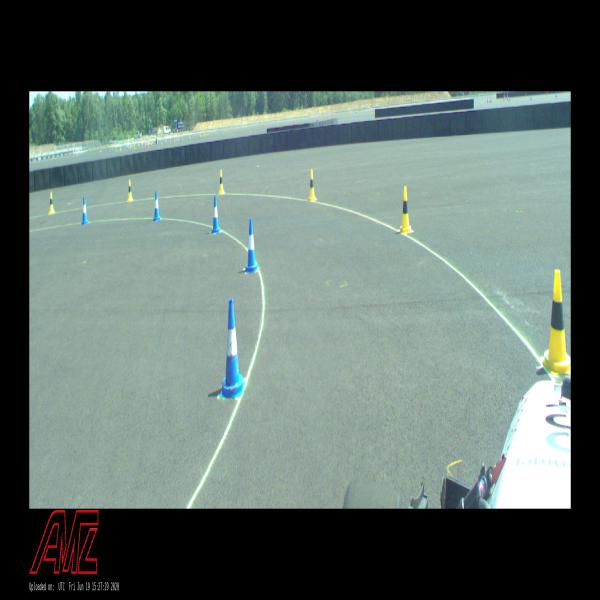blue_cone: (220, 299, 246, 398), (245, 218, 258, 274), (210, 195, 221, 234), (153, 191, 161, 221), (81, 197, 89, 224)
yellow_cone: (540, 269, 571, 374), (399, 186, 414, 234), (309, 169, 317, 201), (48, 192, 55, 214), (128, 180, 134, 202), (219, 169, 224, 194)
